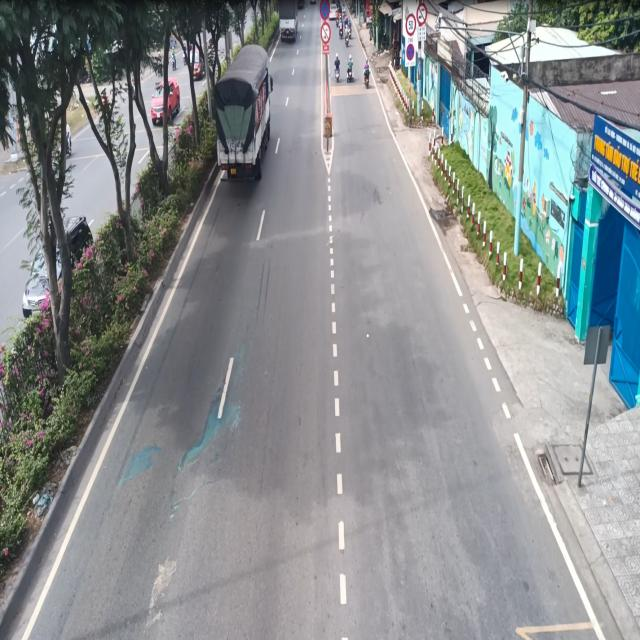motor: (359, 57, 373, 95), (344, 51, 355, 88), (333, 46, 342, 88)
truck: (217, 41, 274, 189)
